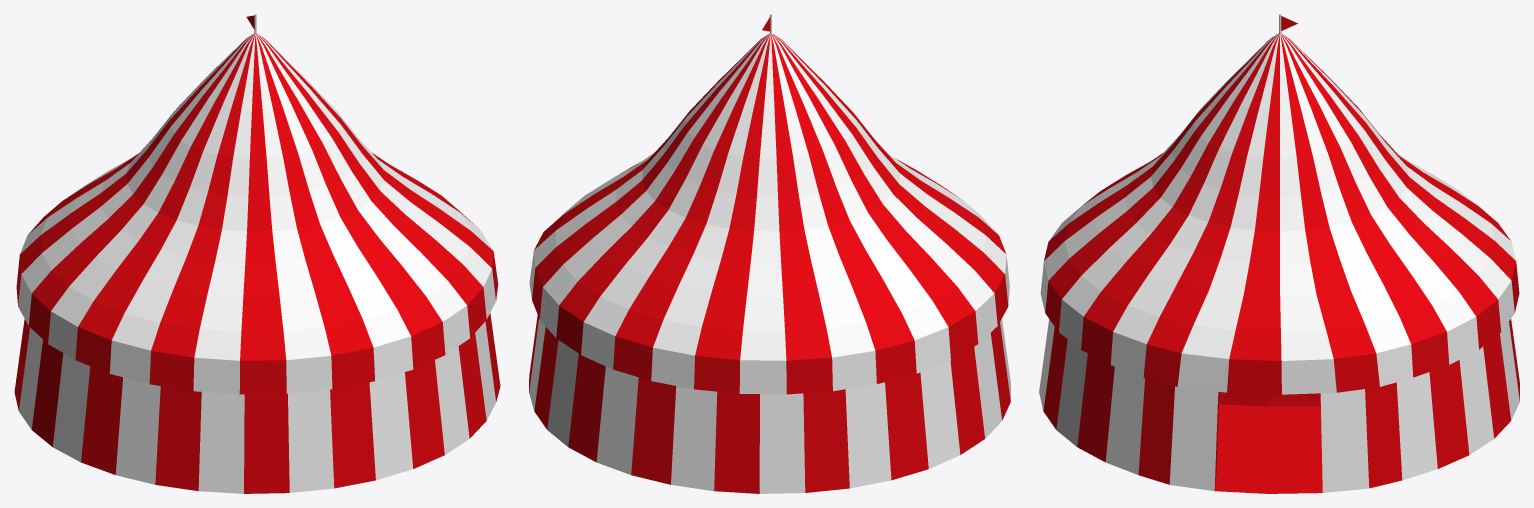
Rendered from Circo.fbx.
3 views of the same model, side by side, from view 1: azimuth 30°, elevation 25°; view 2: azimuth 150°, elevation 25°; view 3: azimuth 270°, elevation 25° (orthographic).
Visible parts, largest first — view 1: Cylinder; view 2: Cylinder; view 3: Cylinder.
Part boxes in pixels (x1,y1,x2,y2): Cylinder: [14, 33, 500, 493]; Cylinder: [529, 33, 1010, 493]; Cylinder: [1039, 33, 1519, 493].
Size of the model in its own units: 441 by 386 by 440.
